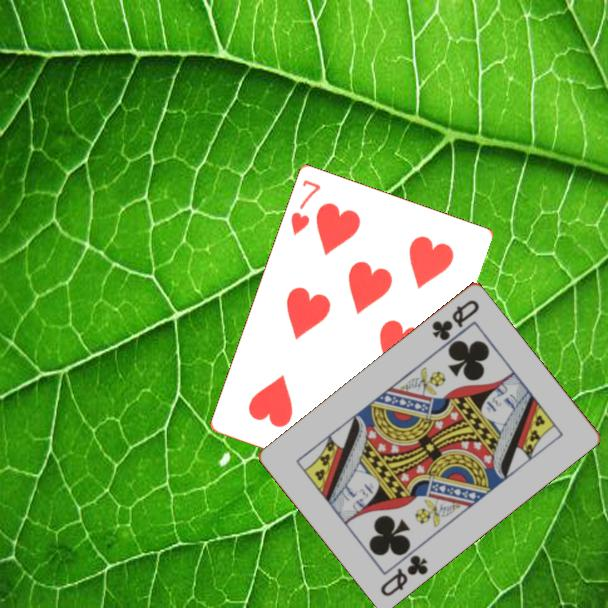c12: (377, 551, 431, 599), (428, 296, 482, 343)
h07: (287, 176, 323, 238)
